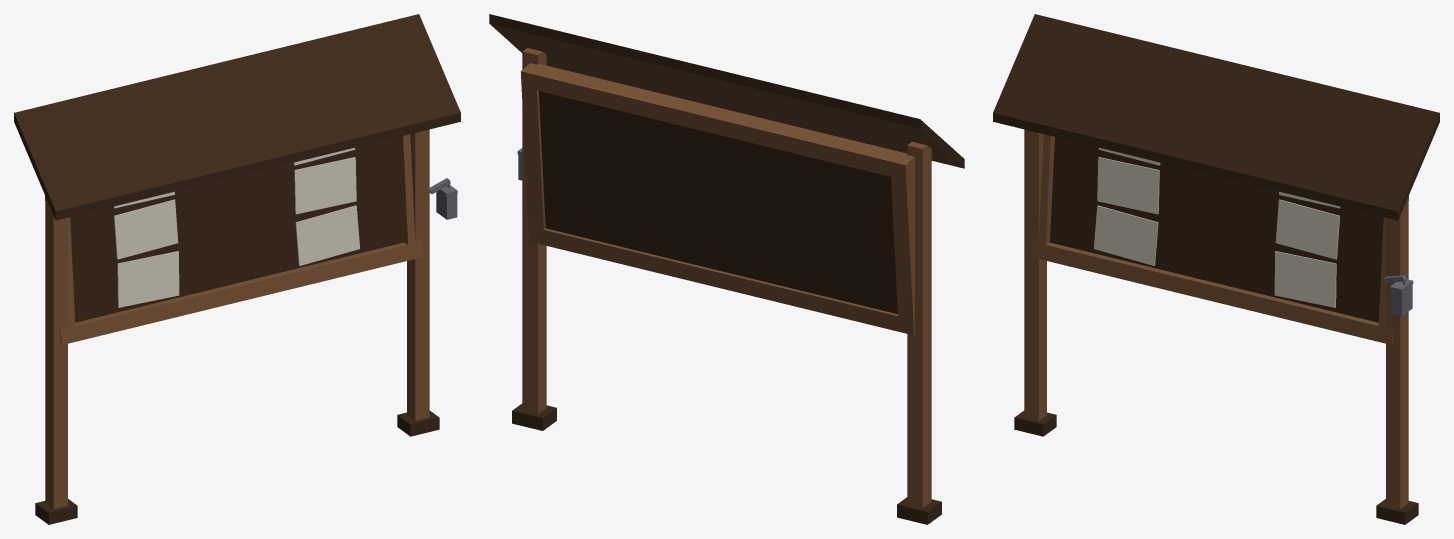
File: SN_Notice_Board.glb
3 views of the same model, side by side, from view 1: azimuth 30°, elevation 25°; view 2: azimuth 150°, elevation 25°; view 3: azimuth 330°, elevation 25° (orthographic). The views are drawn at different scales.
Parts seen in each view (by area): view 1: SN_Notice_Board; view 2: SN_Notice_Board; view 3: SN_Notice_Board.
Part boxes in pixels (box(x1,y1,x2,y2)): SN_Notice_Board: box(14, 14, 460, 524); SN_Notice_Board: box(489, 14, 964, 524); SN_Notice_Board: box(993, 14, 1439, 524).
Size of the model in its own units: 2.8 by 2.6 by 0.5.
